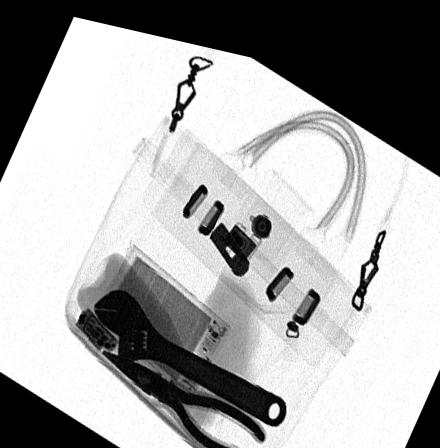Pliers: (100, 342, 267, 448)
Powerbank: (95, 237, 230, 384)
Wrench: (92, 283, 288, 414)
